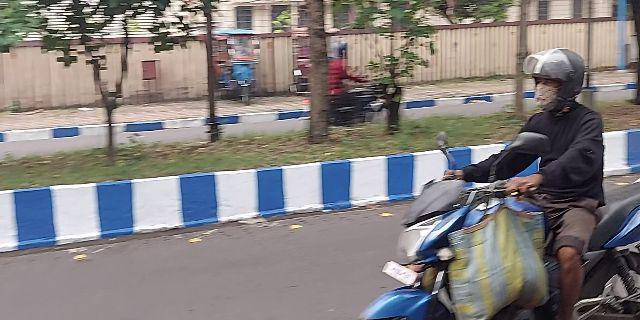Motorbike: (356, 38, 640, 319)
